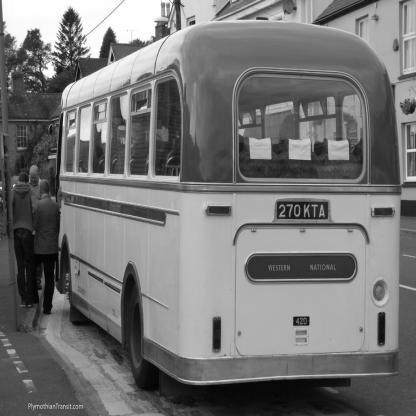bus: (51, 34, 413, 376)
